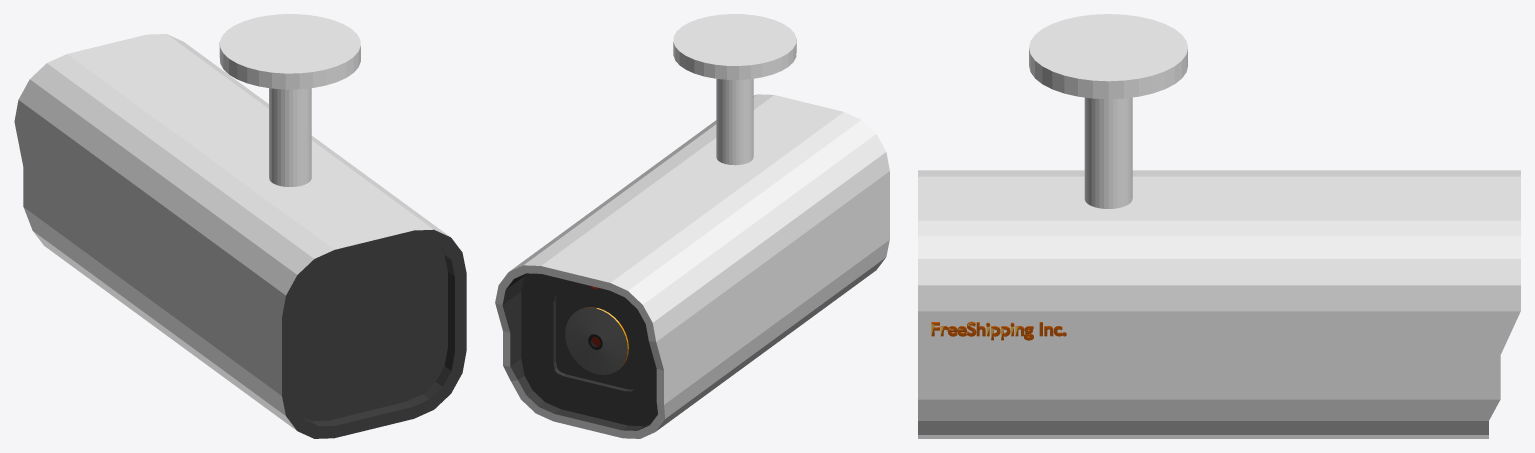
Rendered from SecurityCamera.fbx.
3 renders of one model, left to right at view 1: azimuth 30°, elevation 25°; view 2: azimuth 150°, elevation 25°; view 3: azimuth 270°, elevation 25°, orthographic. The views are drawn at different scales.
Parts seen in each view (by area): view 1: Cube; view 2: Cube; view 3: Cube, Text.
Part boxes in pixels (x1,y1,x2,y2): Cube: [14, 14, 466, 438]; Cube: [495, 14, 889, 438]; Cube: [918, 14, 1520, 438]; Text: [931, 321, 1066, 340].
Bounding box in the file's own units: 52.59 × 87.03 × 131.
